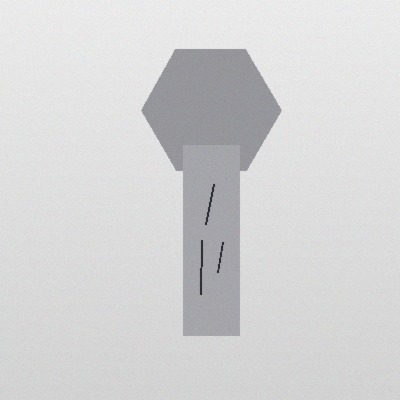scratch: (199, 180, 219, 228), (194, 236, 207, 298), (211, 238, 228, 276)
